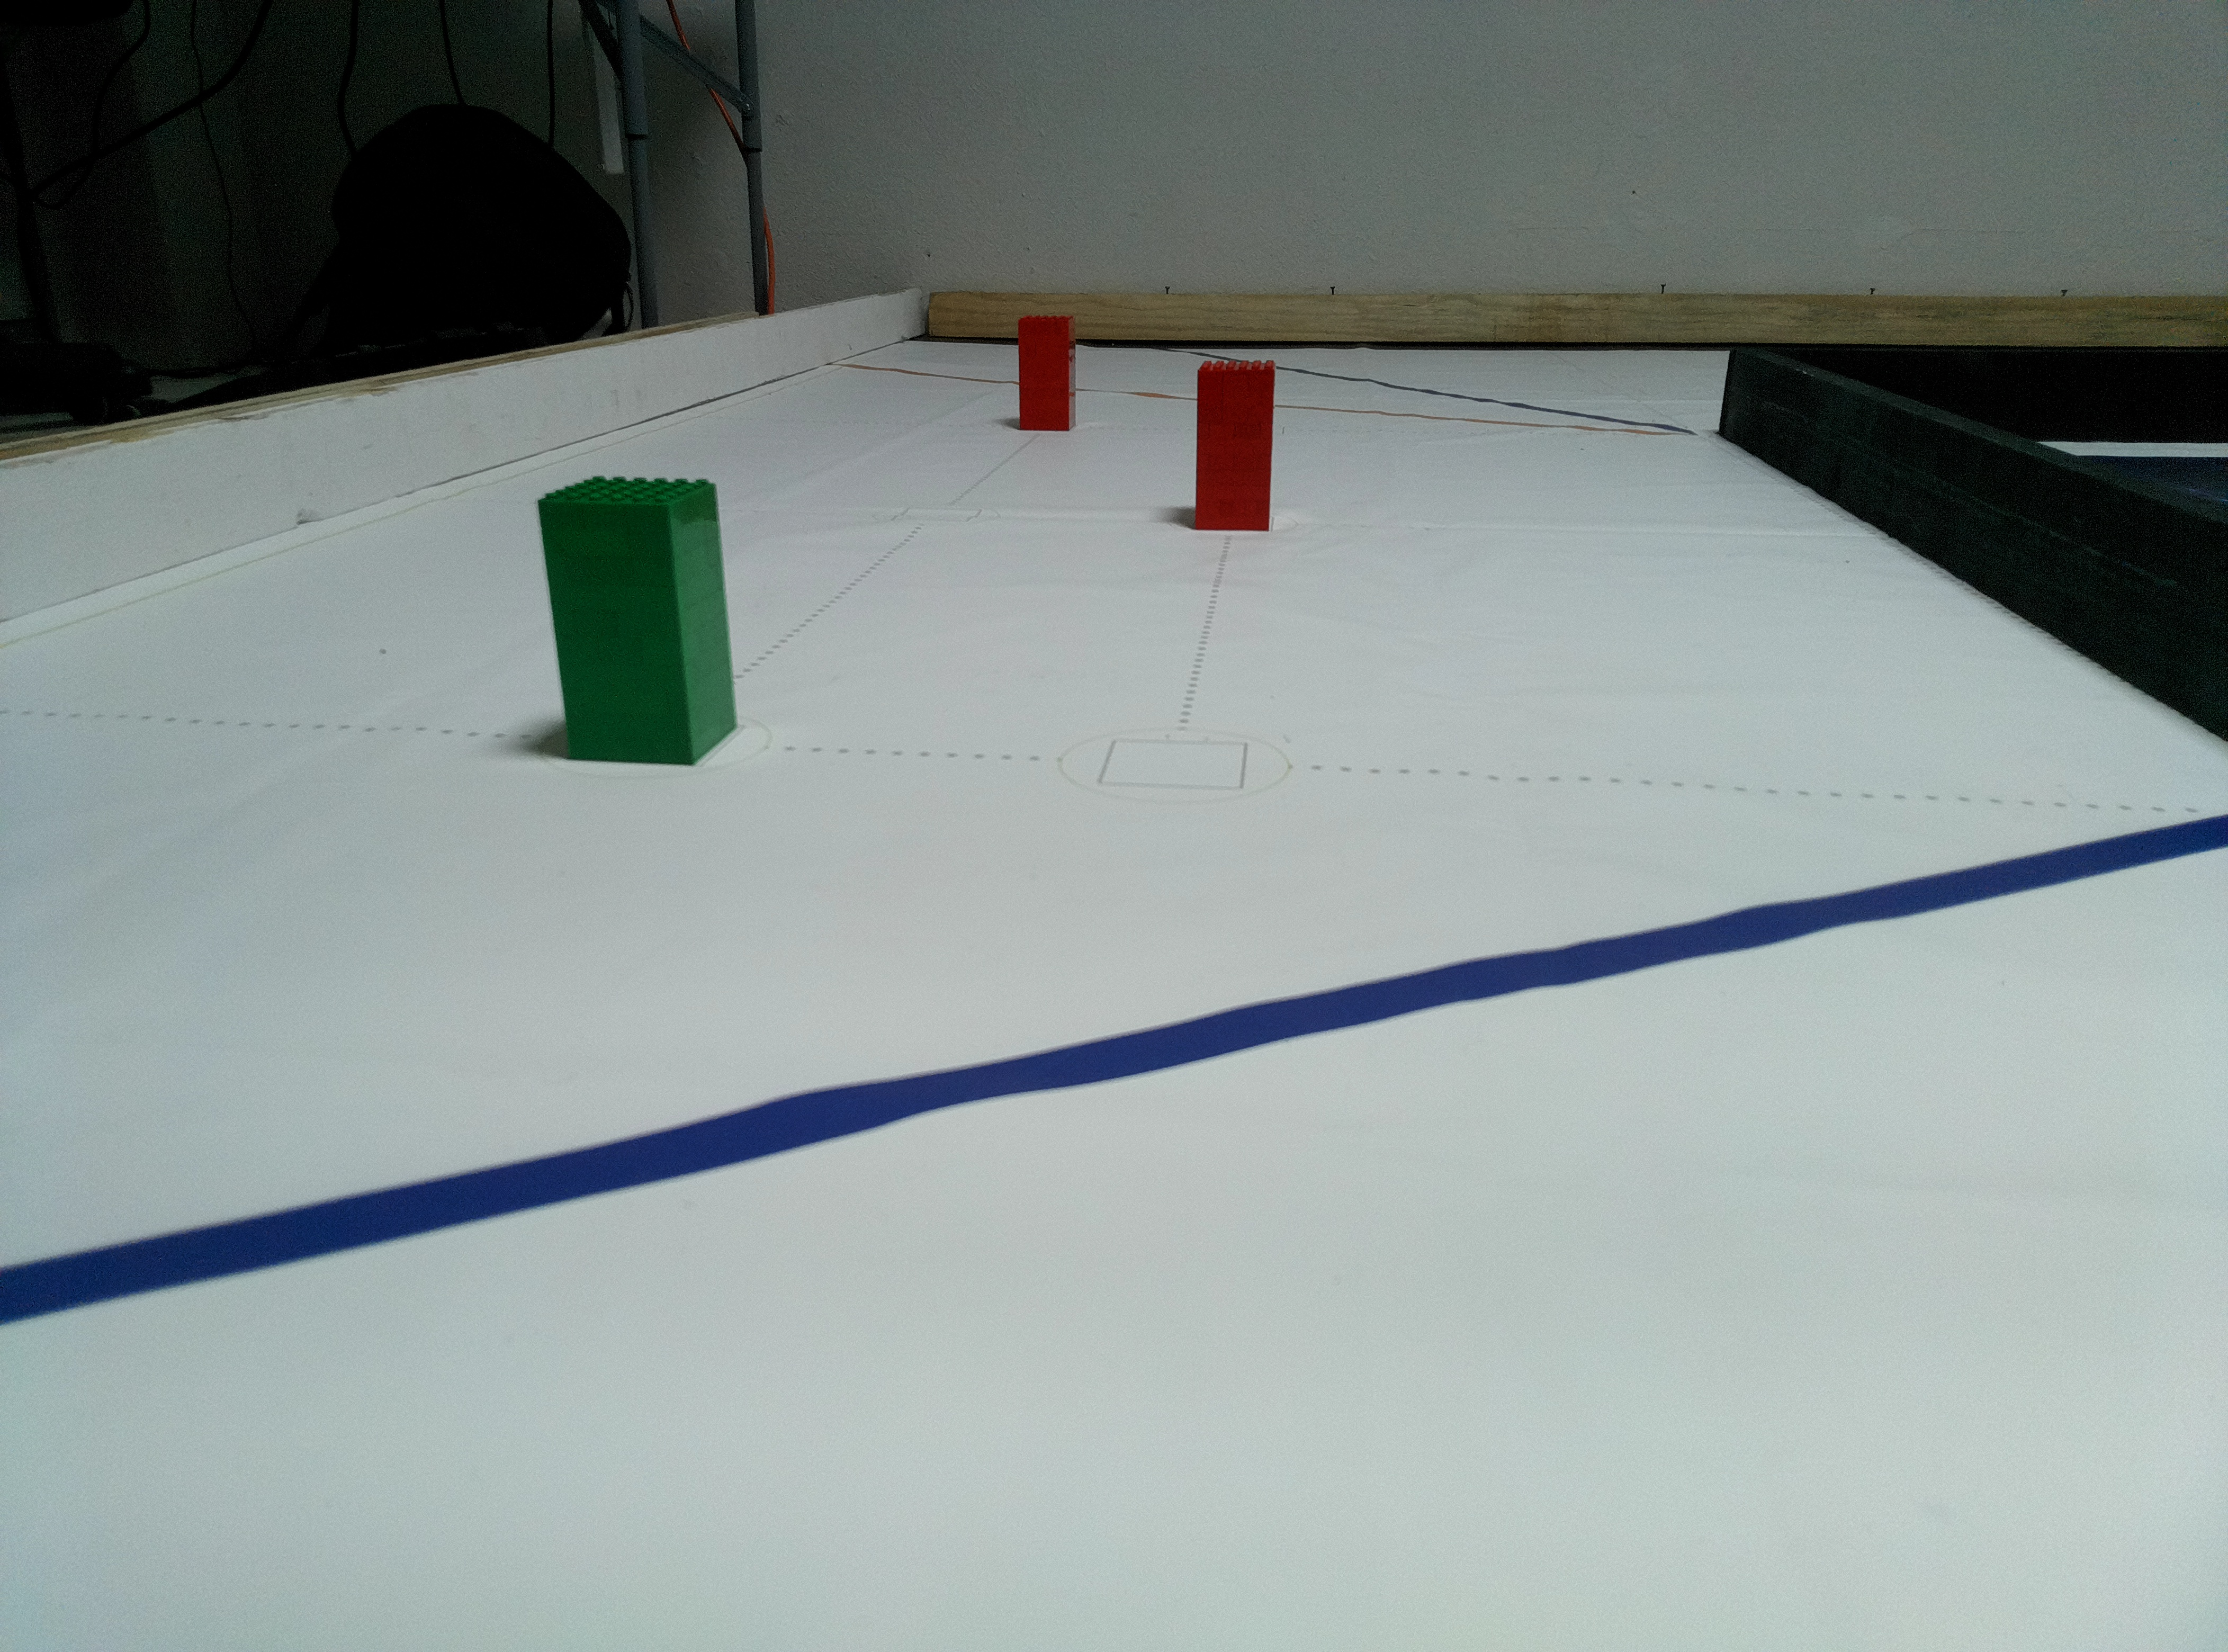greenbox: (534, 470, 746, 769)
redbox: (1190, 357, 1279, 534), (1015, 312, 1078, 434)
